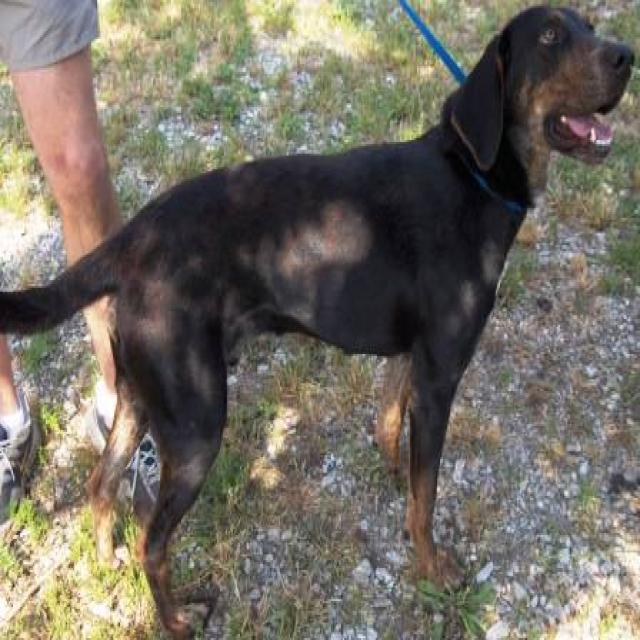dog: (0, 2, 636, 638)
